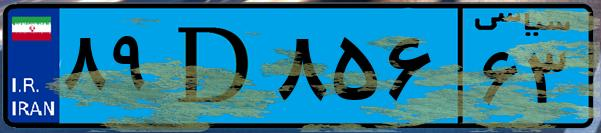3: (525, 38, 570, 115)
5: (330, 28, 385, 110)
6: (385, 28, 445, 110), (475, 38, 525, 113)
8: (270, 28, 330, 110), (57, 26, 110, 100)
9: (110, 28, 158, 98)
D: (158, 12, 270, 120)
